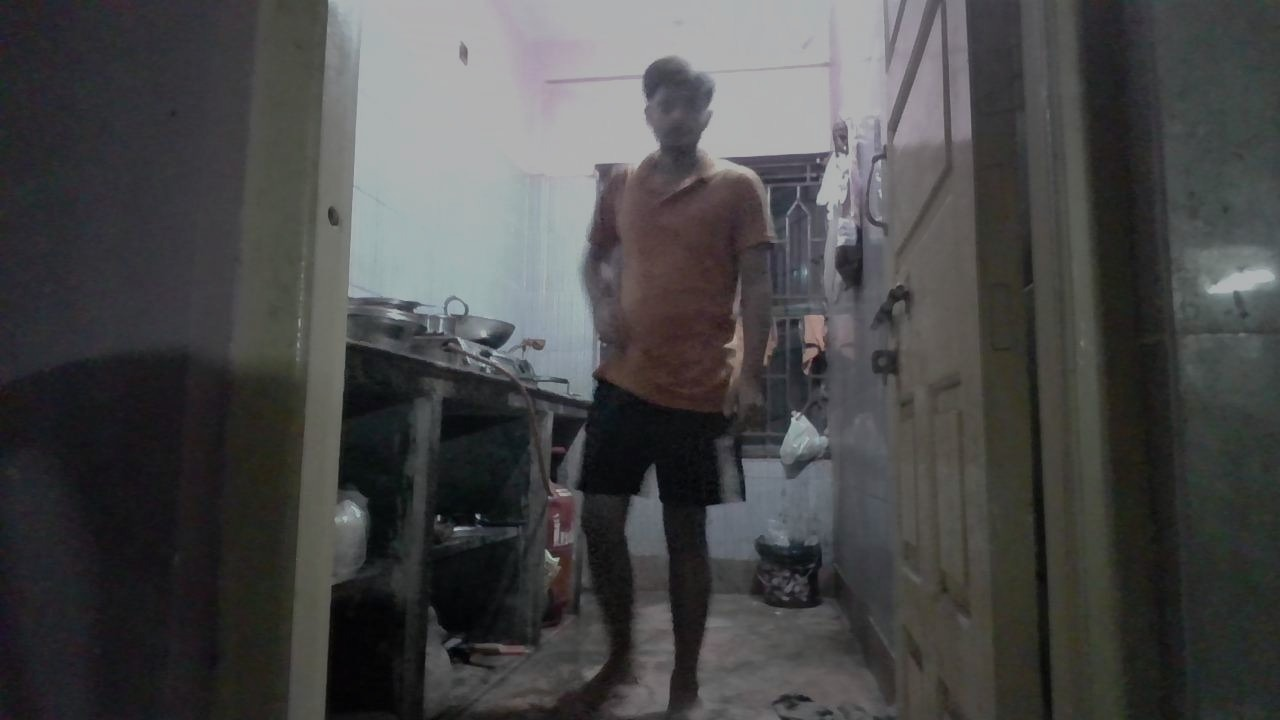red_box: (642, 351, 696, 406)
